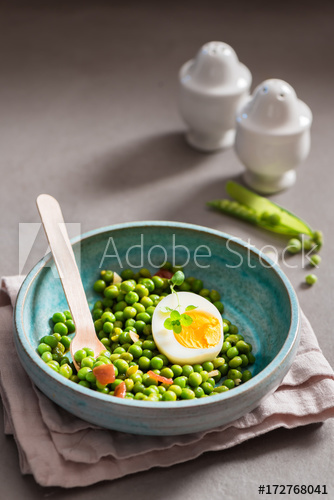boiled peas: (38, 266, 256, 403)
